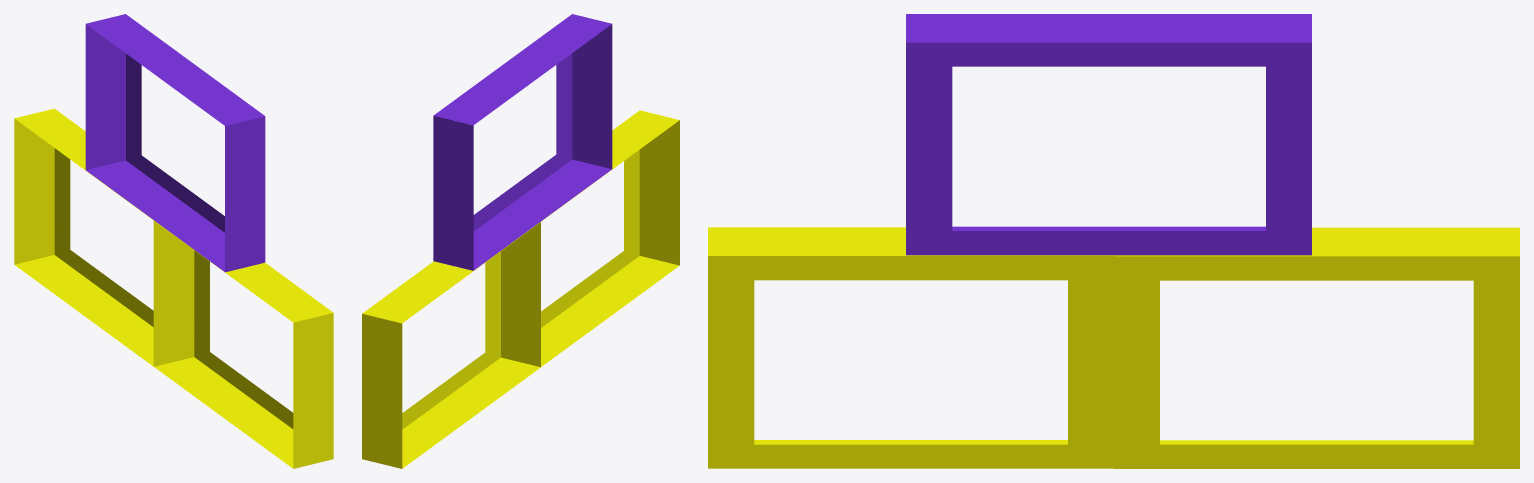
The model's file is trianlemesh.fbx.
3 views of the same model, side by side, from view 1: azimuth 30°, elevation 25°; view 2: azimuth 150°, elevation 25°; view 3: azimuth 270°, elevation 25° (orthographic). The views are drawn at different scales.
Visible parts, largest first — view 1: Cube; view 2: Cube; view 3: Cube.
Part boxes in pixels (box(x1,y1,x2,y2)): Cube: box(14, 14, 333, 468); Cube: box(362, 14, 679, 468); Cube: box(708, 14, 1519, 468).
Size of the model in its own units: 60.37 by 417 by 720.
